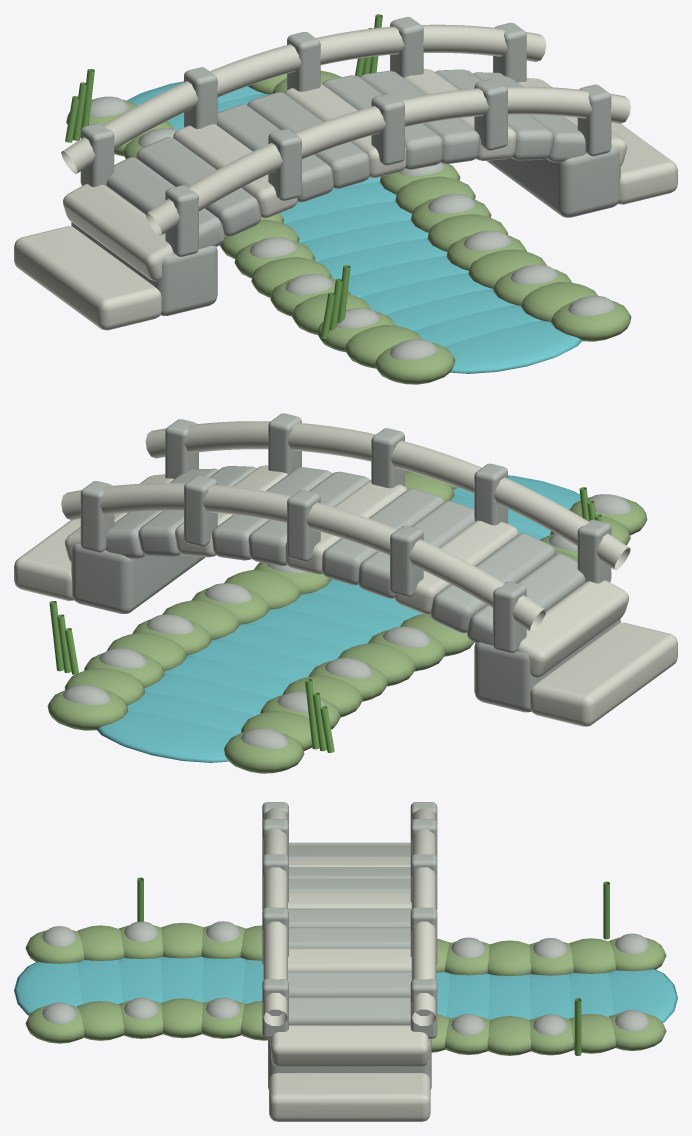
Rendered from decor-stone-stream.glb.
3 views of the same model, one above another, from view 1: azimuth 30°, elevation 25°; view 2: azimuth 150°, elevation 25°; view 3: azimuth 270°, elevation 25° (orthographic). The views are drawn at different scales.
Visible parts, largest first — view 1: stone-stream-stone.001, stone-stream-lightstone.001, stone-stream-water.001, stone-stream-moss.001, stone-stream-leaf.001; view 2: stone-stream-stone.001, stone-stream-lightstone.001, stone-stream-moss.001, stone-stream-water.001, stone-stream-leaf.001; view 3: stone-stream-stone.001, stone-stream-lightstone.001, stone-stream-moss.001, stone-stream-water.001, stone-stream-leaf.001.
Part boxes in pixels (x1,y1,x2,y2): stone-stream-stone.001: (71,17,620,360); stone-stream-lightstone.001: (14,24,677,330); stone-stream-water.001: (127,81,582,373); stone-stream-moss.001: (66,70,631,384); stone-stream-leaf.001: (65,14,382,338); stone-stream-stone.001: (63,413,631,749); stone-stream-lightstone.001: (14,421,677,726); stone-stream-moss.001: (47,470,647,773); stone-stream-water.001: (96,475,580,762); stone-stream-leaf.001: (49,487,602,752); stone-stream-stone.001: (42,802,649,1089); stone-stream-lightstone.001: (263,808,436,1121); stone-stream-moss.001: (25,922,666,1055); stone-stream-water.001: (14,956,677,1022); stone-stream-leaf.001: (137,877,609,1055).
Size of the model in its own units: 6.18 by 1.68 by 6.98.
